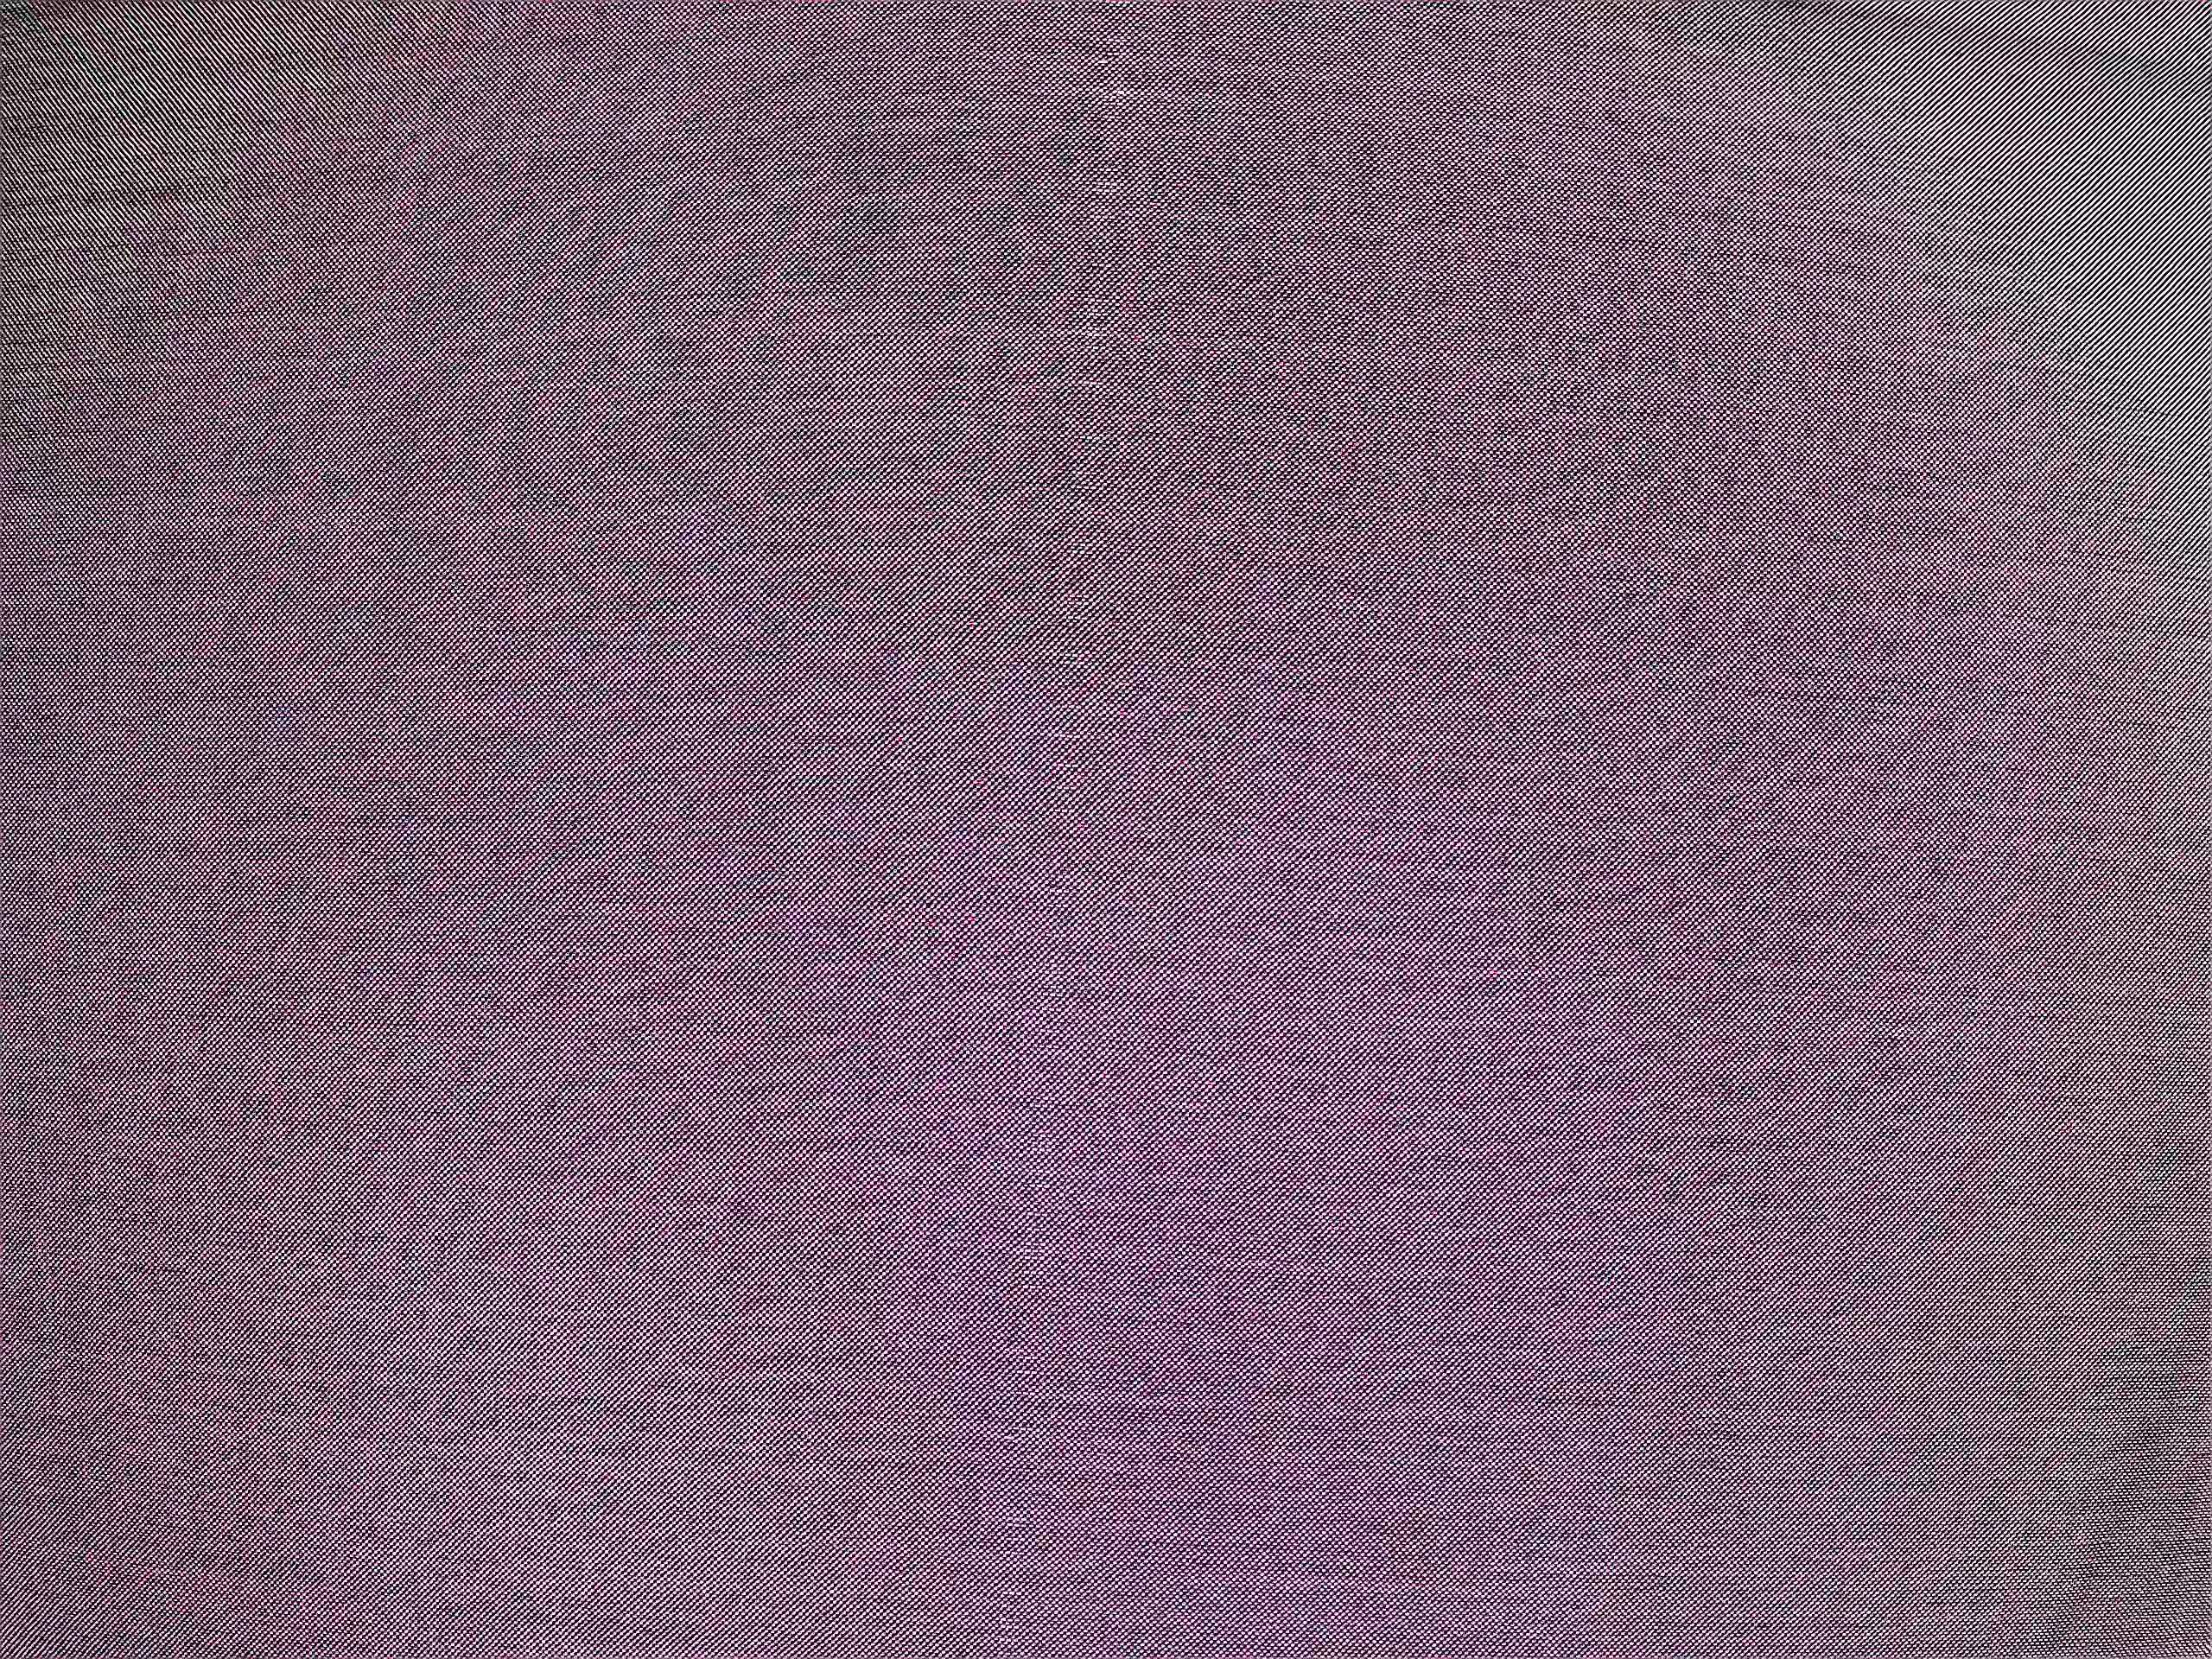jumps: (1030, 57, 1147, 964)
